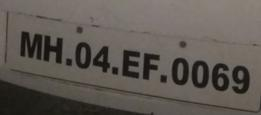0: (191, 56, 211, 90), (171, 54, 190, 86), (73, 40, 92, 71)
4: (93, 43, 111, 76)
6: (211, 61, 231, 93)
9: (231, 63, 252, 97)
E: (120, 47, 142, 81)
F: (143, 50, 162, 83)
H: (42, 30, 64, 65)
M: (18, 28, 43, 63)
